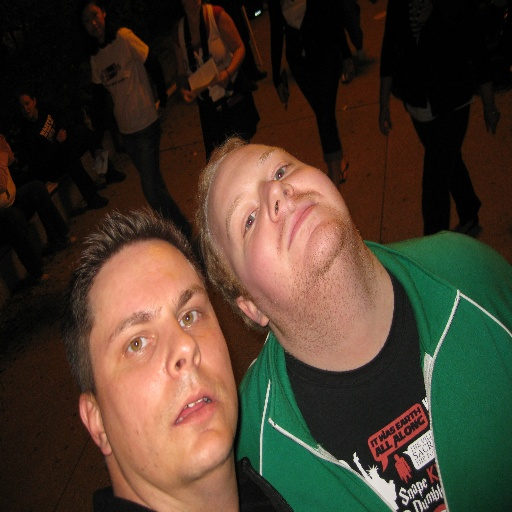hand: (481, 103, 500, 136), (376, 102, 392, 135), (342, 59, 355, 86), (274, 79, 288, 102), (91, 143, 104, 162), (181, 87, 195, 103), (218, 69, 229, 88), (56, 129, 65, 142), (0, 172, 5, 192)
